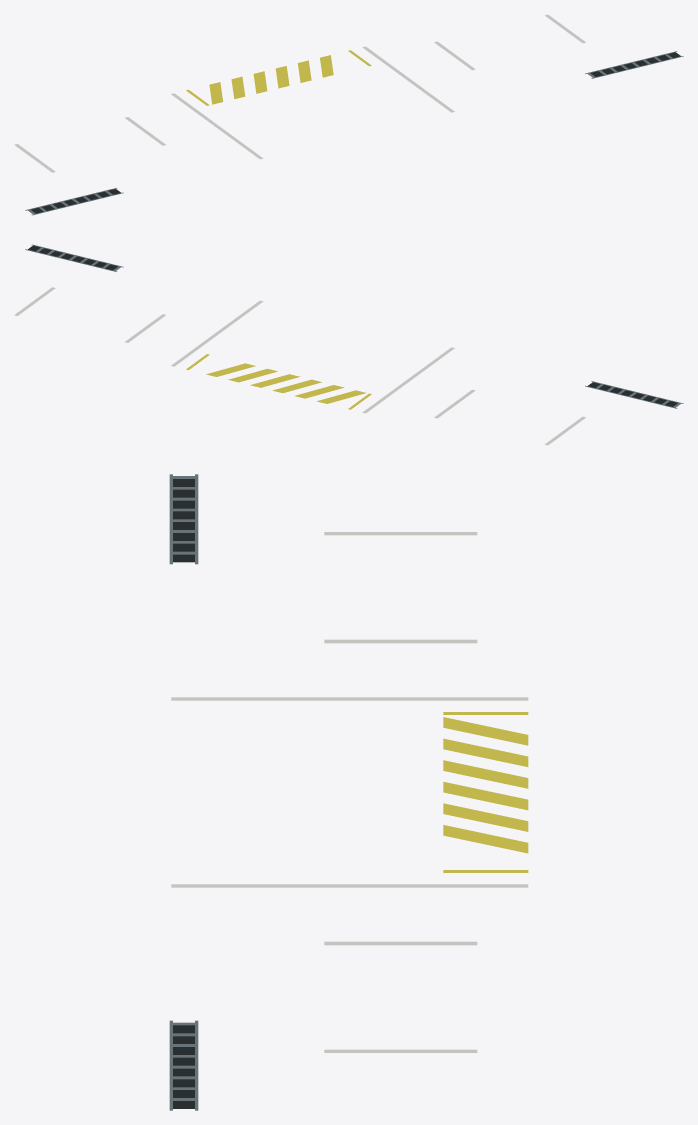
Rendered from sm_env_shed_yard_medium.glb.
3 renders of one model, top to bottom at view 1: azimuth 30°, elevation 25°; view 2: azimuth 150°, elevation 25°; view 3: azimuth 270°, elevation 25°, orthographic. The views are drawn at different scales.
Parts seen in each view (by area): view 1: DockGuide, DockGuide.001; view 2: DockGuide, DockGuide.001; view 3: DockGuide, DockGuide.001, DockHatch, DockHatch.001, DockHatch.002, DockHatch.004, DockHatch.005, DockHatch.003.
Part boxes in pixels (box(x1,y1,x2,y2)): DockGuide: box(171, 93, 263, 159); DockGuide.001: box(362, 46, 454, 112); DockGuide: box(362, 347, 454, 413); DockGuide.001: box(171, 300, 263, 366); DockGuide: box(171, 697, 528, 700); DockGuide.001: box(171, 884, 528, 887); DockHatch: box(443, 717, 528, 745); DockHatch.001: box(443, 738, 528, 766); DockHatch.002: box(443, 760, 528, 788); DockHatch.004: box(443, 803, 528, 831); DockHatch.005: box(443, 825, 528, 853); DockHatch.003: box(443, 781, 528, 810).
Bounding box in the file's own units: 17.7 × 0 × 4.22.
